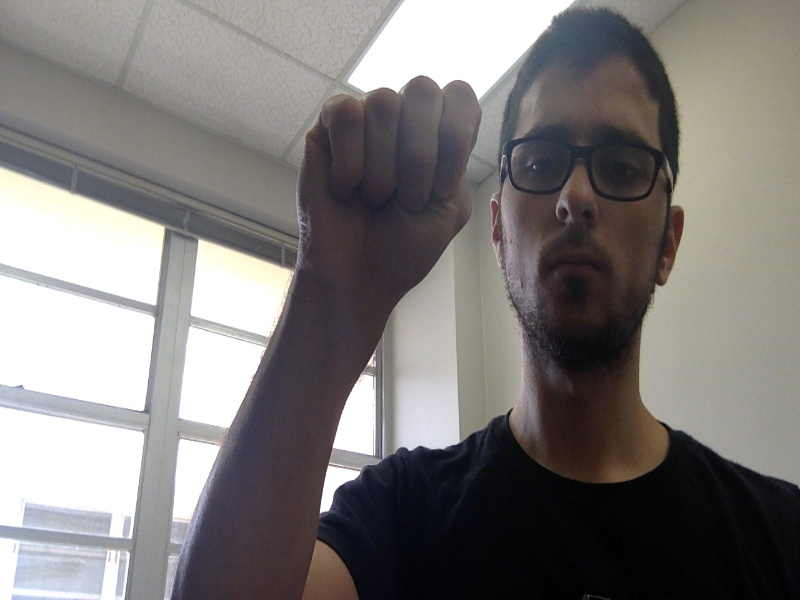0-hand: (298, 74, 477, 287)
